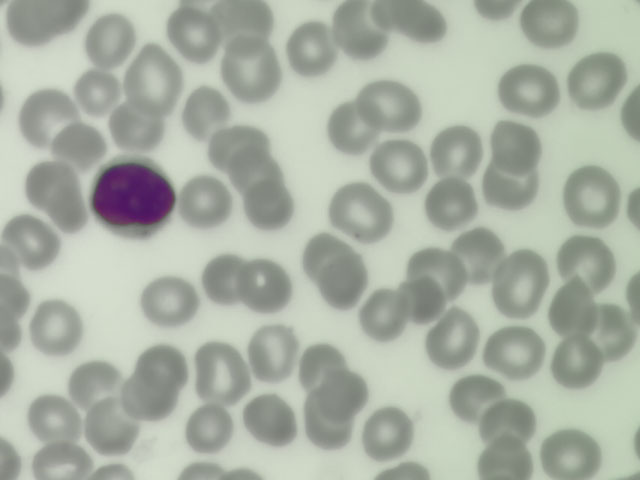RBC: (127, 43, 183, 110), (496, 250, 549, 316), (369, 140, 430, 192), (175, 175, 236, 227), (240, 184, 301, 236), (226, 146, 287, 198), (209, 121, 270, 173), (285, 21, 346, 73), (221, 46, 282, 98), (164, 9, 225, 61), (108, 99, 169, 151), (15, 88, 76, 140), (82, 14, 143, 66), (120, 368, 181, 420), (132, 343, 193, 395), (80, 399, 141, 451), (25, 301, 86, 353), (137, 275, 198, 327), (1, 215, 61, 267), (4, 1, 65, 52), (64, 359, 120, 412), (377, 1, 448, 42), (213, 1, 277, 45), (181, 85, 234, 137), (22, 393, 76, 443), (359, 290, 411, 340), (395, 274, 447, 324), (316, 250, 368, 300), (298, 229, 350, 279), (413, 244, 465, 294), (454, 228, 506, 278), (584, 304, 636, 354), (549, 340, 601, 390), (549, 284, 601, 334), (560, 237, 612, 287), (335, 186, 387, 236), (546, 430, 598, 480), (482, 399, 534, 449), (446, 371, 498, 421), (430, 317, 482, 367), (361, 408, 413, 458), (304, 401, 356, 451), (317, 368, 369, 418), (298, 339, 350, 389), (243, 395, 295, 445), (184, 401, 236, 451), (246, 327, 298, 377), (193, 346, 245, 396), (239, 260, 291, 310), (199, 254, 251, 304), (424, 179, 476, 229), (431, 126, 483, 176), (565, 171, 617, 221), (486, 159, 538, 209), (490, 121, 542, 171), (504, 63, 556, 113), (570, 55, 622, 105), (324, 100, 376, 150), (364, 78, 416, 128), (523, 1, 575, 50), (55, 120, 104, 171), (489, 327, 541, 373), (21, 160, 75, 204), (72, 68, 123, 113), (33, 441, 92, 479), (479, 440, 530, 480), (1, 267, 34, 324), (45, 186, 87, 230), (611, 85, 640, 145), (379, 453, 437, 479), (473, 1, 522, 24), (1, 428, 22, 480), (181, 458, 230, 480)
WBC: (90, 159, 179, 237)
